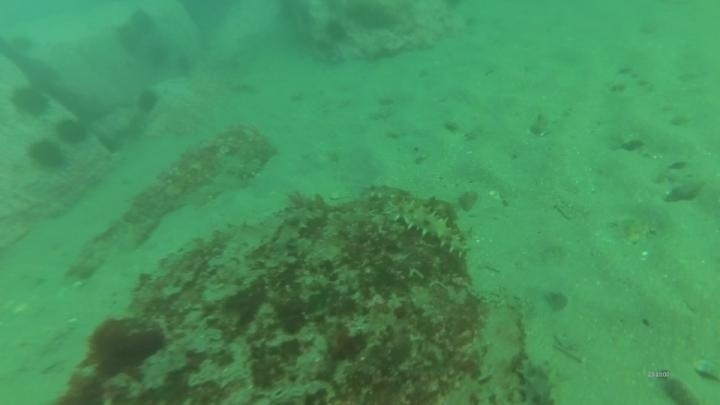echinus: (9, 83, 52, 120), (26, 137, 68, 173), (54, 116, 90, 148), (134, 87, 162, 116)
holothurian: (475, 294, 529, 402), (386, 196, 471, 259), (268, 189, 328, 264), (513, 352, 561, 405)
